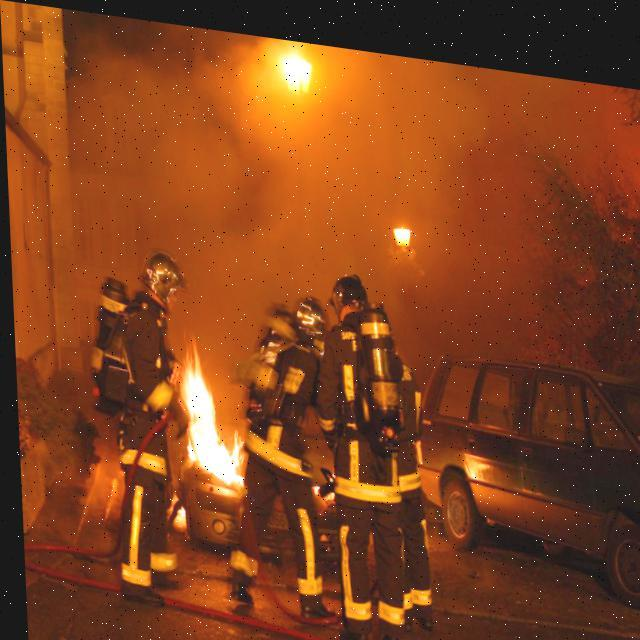Fire: (170, 342, 240, 479)
